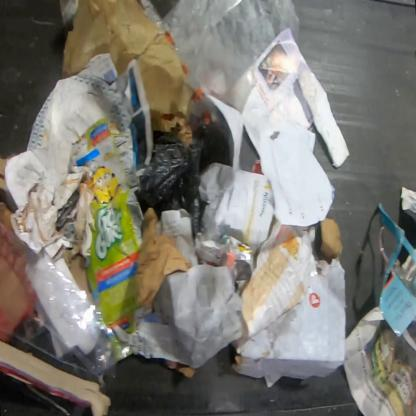cardboard: (61, 0, 196, 140), (67, 115, 146, 334), (230, 259, 347, 389), (0, 340, 113, 415), (296, 67, 351, 171), (137, 207, 193, 308), (377, 202, 416, 338), (223, 169, 274, 255), (69, 254, 94, 300), (318, 217, 344, 260), (164, 358, 198, 379), (0, 201, 15, 231), (0, 156, 10, 199)
metal: (216, 238, 255, 283)
soft_plastic: (0, 219, 134, 378), (138, 0, 302, 114), (136, 123, 232, 242), (58, 0, 80, 29)
